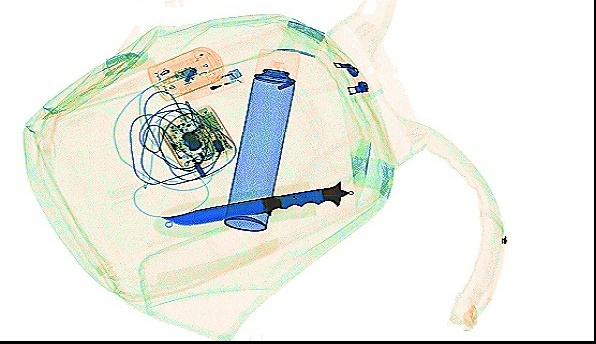knife: (159, 178, 354, 227)
lighter: (177, 64, 242, 102)
pressure: (220, 44, 301, 233)
